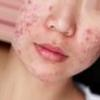Acne: (26, 21, 36, 33), (85, 28, 92, 42), (45, 4, 54, 14)
